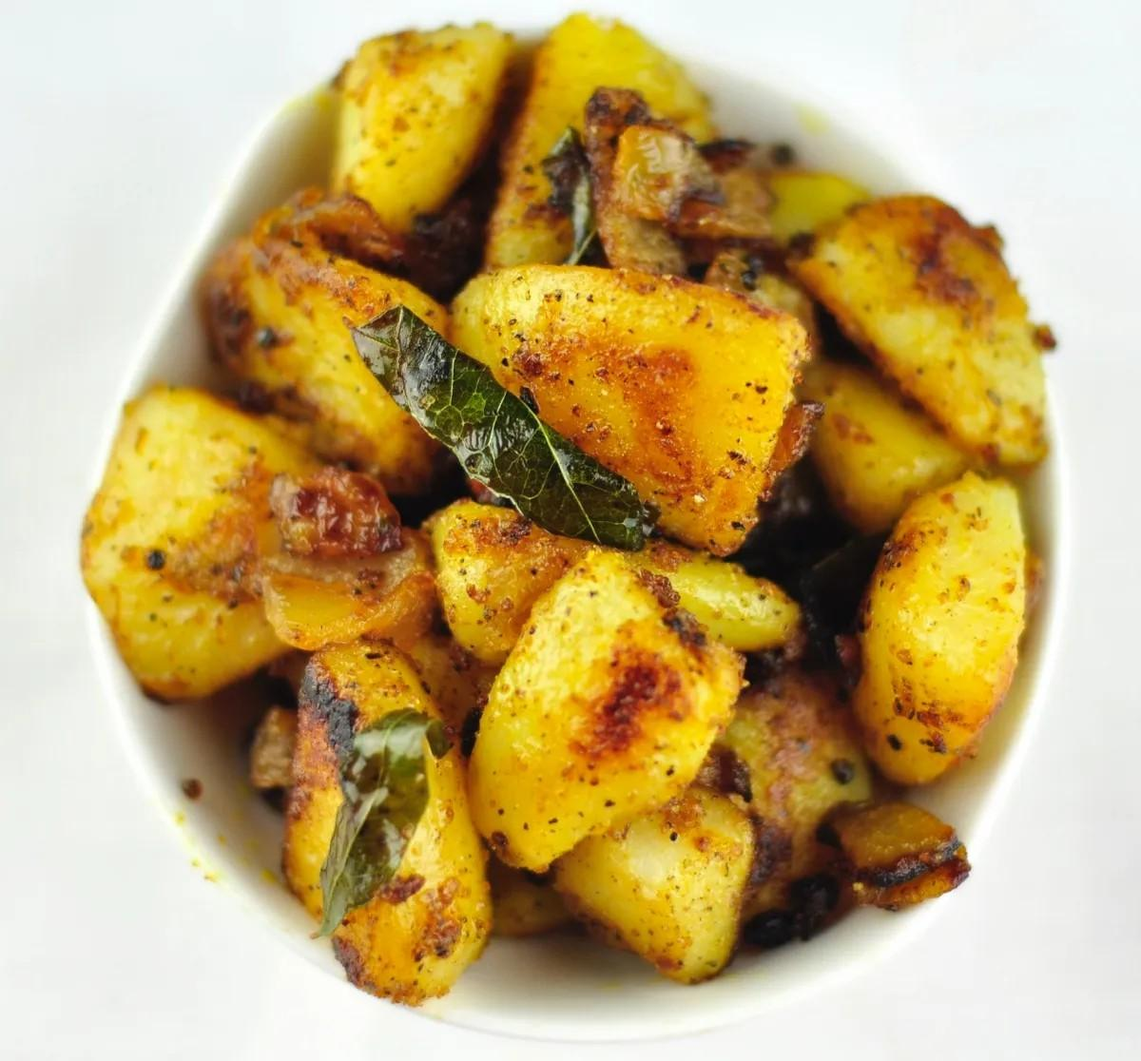AlooMasala: (81, 14, 1046, 1004)
